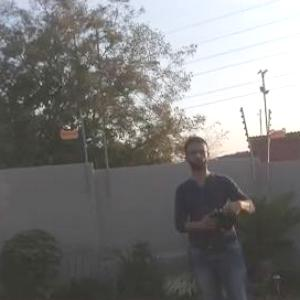follow: (169, 122, 268, 299)
